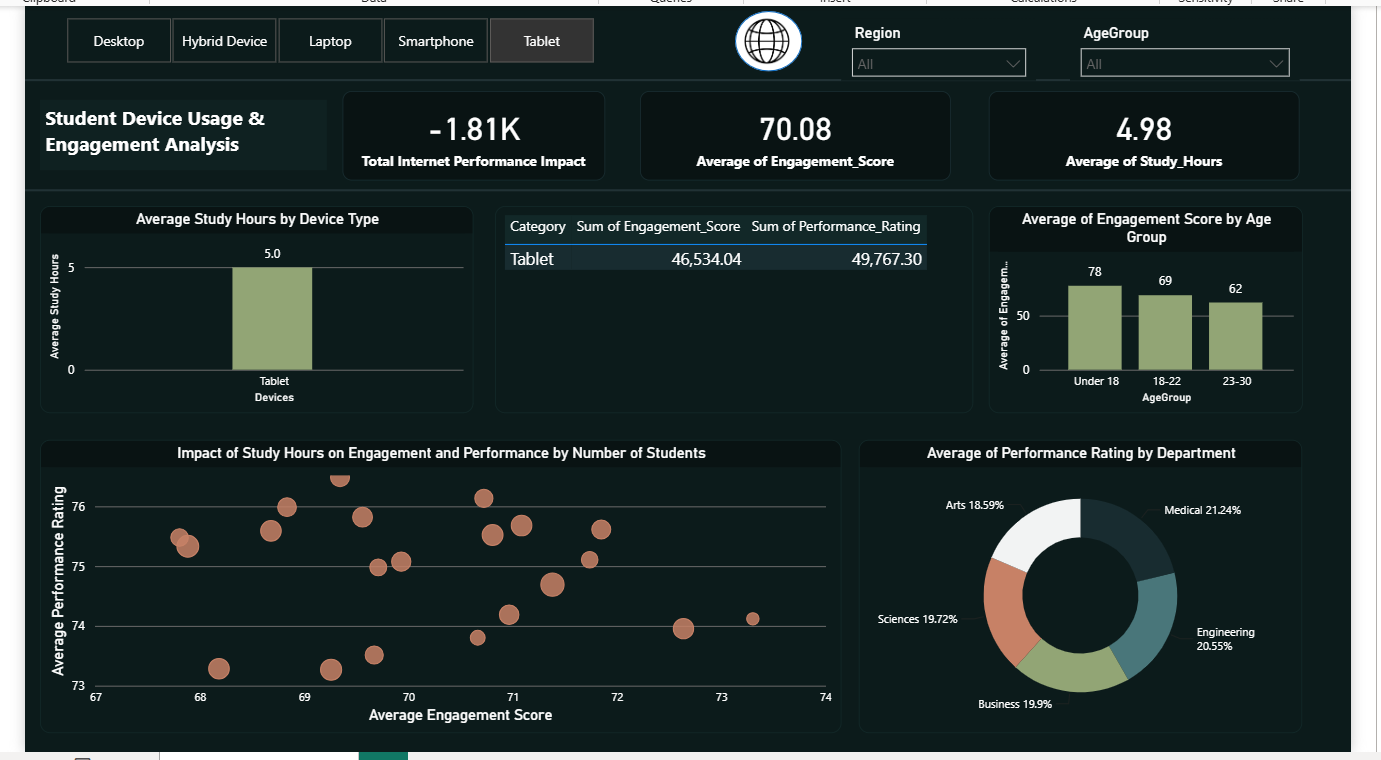

The dashboard page shown, as its layout file describes it:
{"tool":"powerbi","page":{"name":"Student Device Usage","canvas":[1280,720],"ordinal":0},"visuals":[{"type":"shape","box":[0,61.7,1280,20],"z":0},{"type":"shape","box":[0,163.3,1280,30],"z":1000},{"type":"columnChart","title":"Average Study Hours by Device Type","fields":{"Category":["Devices.DeviceType"],"Y":["Avg(Student Engagement.Study_Hours)"]},"box":[15,193.3,418.3,200],"z":2000},{"type":"scatterChart","title":"Impact of Study Hours on Engagement and Performance by Number of Students","fields":{"Category":["Student Engagement.Study_Hours"],"Size":["CountNonNull(Student Engagement.StudentID)"],"X":["Avg(Student Engagement.Engagement_Score)"],"Y":["Avg(Student Engagement.Performance_Rating)"]},"box":[15,418.3,773.3,283.3],"z":3000},{"type":"donutChart","title":"Average of Performance Rating by Department","fields":{"Category":["Department.Department"],"Y":["Avg(Student Engagement.Performance_Rating)"]},"box":[805,418.3,428.3,283.3],"z":4000},{"type":"tableEx","fields":{"Values":["Devices.Category","Sum(Student Engagement.Engagement_Score)","Sum(Student Engagement.Performance_Rating)"]},"box":[453.3,193.3,461.7,200],"z":5000},{"type":"columnChart","title":"Average of Engagement Score by Age Group","fields":{"Category":["Student Engagement.AgeGroup"],"Y":["Avg(Student Engagement.Engagement_Score)"]},"box":[930,193.3,303.3,200],"z":6000},{"type":"card","fields":{"Values":["Department.Total Internet Performance Impact"]},"box":[306.7,81.7,253.3,86.7],"z":7000},{"type":"card","fields":{"Values":["Avg(Student Engagement.Engagement_Score)"]},"box":[593.3,81.7,300,86.7],"z":8000},{"type":"card","fields":{"Values":["Avg(Student Engagement.Study_Hours)"]},"box":[930,81.7,300,86.7],"z":9000},{"type":"textbox","box":[15,90,276.7,68.3],"z":10000},{"type":"slicer","fields":{"Values":["Student Engagement.Region"]},"box":[788.3,11.7,188.3,60],"z":11000},{"type":"slicer","fields":{"Values":["Student Engagement.AgeGroup"]},"box":[1008.3,11.7,221.7,60],"z":12000},{"type":"slicer","fields":{"Values":["Devices.DeviceType"]},"box":[15,5,558.3,56.7],"z":13000},{"type":"shape","box":[685,5,65,58.3],"z":14000},{"type":"image","box":[683.3,0,66.7,68.3],"z":15000}]}

Visuals, with their boxes on the page's 1280x720 design canvas (x1, y1, x2, y2). These are canvas units, not pixel positions in the 1381x760 screenshot, which may show the page scaled, cropped or inside an application window:
shape: [0,62,1280,82]
shape: [0,163,1280,193]
"Average Study Hours by Device Type" columnChart: [15,193,433,393]
"Impact of Study Hours on Engagement and Performance by Number of Students" scatterChart: [15,418,788,702]
"Average of Performance Rating by Department" donutChart: [805,418,1233,702]
tableEx - Devices.Category x Sum(Student Engagement.Engagement_Score): [453,193,915,393]
"Average of Engagement Score by Age Group" columnChart: [930,193,1233,393]
card - Department.Total Internet Performance Impact: [307,82,560,168]
card - Avg(Student Engagement.Engagement_Score): [593,82,893,168]
card - Avg(Student Engagement.Study_Hours): [930,82,1230,168]
textbox: [15,90,292,158]
slicer - Student Engagement.Region: [788,12,977,72]
slicer - Student Engagement.AgeGroup: [1008,12,1230,72]
slicer - Devices.DeviceType: [15,5,573,62]
shape: [685,5,750,63]
image: [683,0,750,68]
